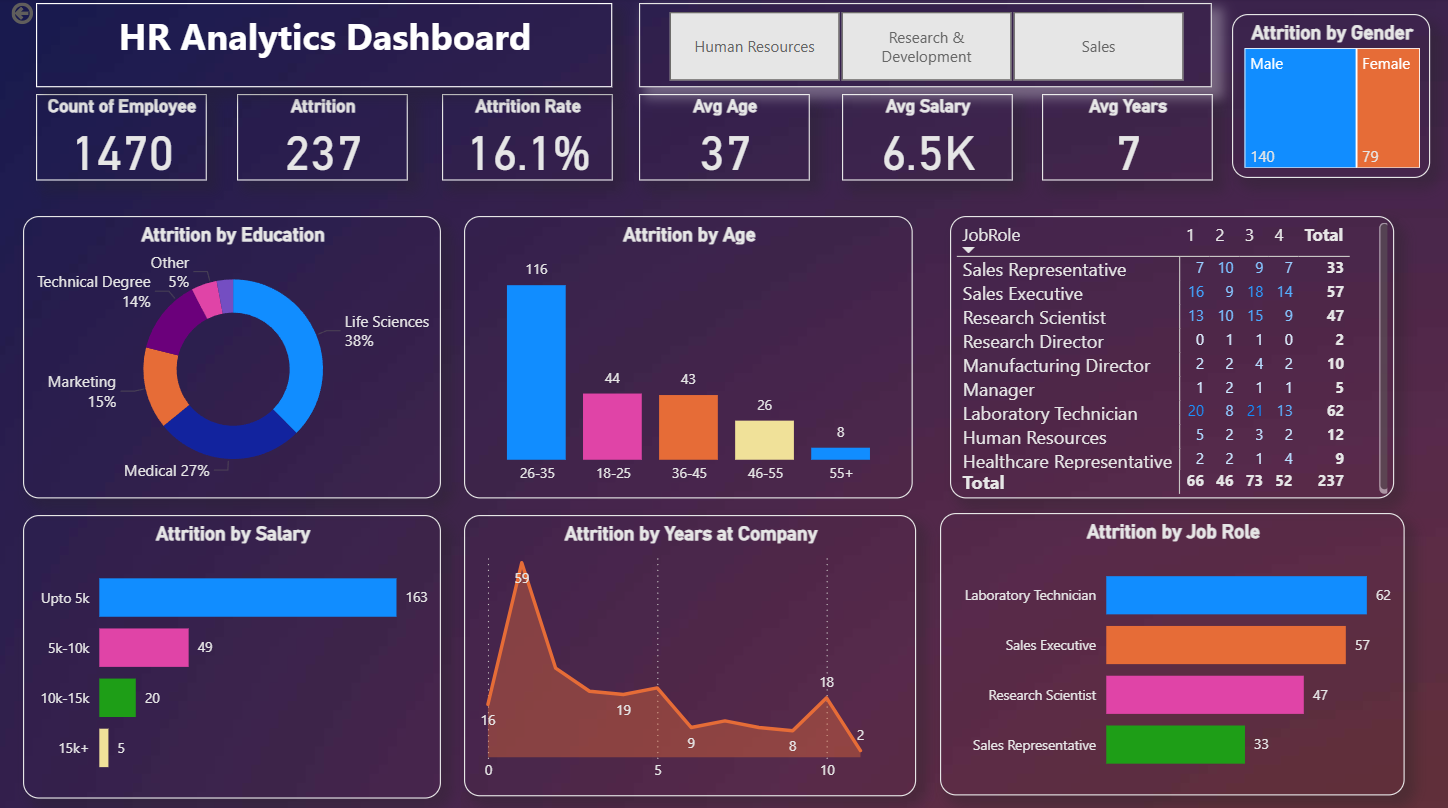

The page's visual inventory and layout, read from the dashboard file:
{"tool":"powerbi","page":{"name":"Page 1","canvas":[1280,720],"ordinal":0},"visuals":[{"type":"card","title":"Count of Employee","fields":{"Values":["CountNonNull(HR_Analytics.EmpID)"]},"box":[35.3,84,149.5,75.6],"z":0},{"type":"card","title":"Attrition","fields":{"Values":["Sum(HR_Analytics.AttritionCount)"]},"box":[211.7,84,149.5,75.6],"z":1000},{"type":"card","title":"Attrition Rate","fields":{"Values":["HR_Analytics.AttritionRate"]},"box":[391.4,84,149.5,75.6],"z":2000},{"type":"card","title":"Avg Age","fields":{"Values":["Avg(HR_Analytics.Age)"]},"box":[564.4,84,149.5,75.6],"z":3000},{"type":"actionButton","box":[10.1,0,100.8,26.9],"z":4000},{"type":"card","title":"Avg Salary","fields":{"Values":["Avg(HR_Analytics.MonthlyIncome)"]},"box":[742.5,84,149.5,75.6],"z":5000},{"type":"card","title":"Avg Years","fields":{"Values":["Avg(HR_Analytics.YearsAtCompany)"]},"box":[918.8,84,149.5,75.6],"z":6000},{"type":"donutChart","title":"Attrition by Education","fields":{"Y":["Sum(HR_Analytics.AttritionCount)"],"Category":["HR_Analytics.EducationField","HR_Analytics.YearsAtCompany"]},"box":[24.1,191.3,367.1,248],"z":7000},{"type":"columnChart","title":"Attrition by Age","fields":{"Category":["HR_Analytics.AgeGroup"],"Y":["Sum(HR_Analytics.AttritionCount)"]},"box":[411,191.3,394,248],"z":8000},{"type":"pivotTable","fields":{"Rows":["HR_Analytics.JobRole"],"Columns":["HR_Analytics.JobSatisfaction"],"Values":["Sum(HR_Analytics.AttritionCount)"]},"box":[837.6,191.3,389.8,248],"z":9000},{"type":"barChart","title":"Attrition by Salary","fields":{"Category":["HR_Analytics.SalarySlab"],"Y":["Sum(HR_Analytics.AttritionCount)"]},"box":[24.1,453.5,367.1,249.4],"z":10000},{"type":"barChart","title":"Attrition by Job Role","fields":{"Category":["HR_Analytics.JobRole"],"Y":["Sum(HR_Analytics.AttritionCount)"]},"box":[829.1,452.1,408.2,248],"z":11000},{"type":"areaChart","title":"Attrition by Years at Company","fields":{"Category":["HR_Analytics.YearsAtCompany"],"Y":["Sum(HR_Analytics.AttritionCount)"]},"box":[411,453.5,396.9,246.6],"z":12000},{"type":"treemap","title":"Attrition by Gender","fields":{"Group":["HR_Analytics.Gender"],"Values":["Sum(HR_Analytics.AttritionCount)"]},"box":[1085,14.1,174,144.3],"z":13000},{"type":"slicer","fields":{"Values":["HR_Analytics.Department"]},"box":[584.2,14.1,447,53.8],"z":14000},{"type":"textbox","box":[60.6,0,481.2,74.6],"z":15000}]}

Visuals, with their boxes in screenshot pixels (x1, y1, x2, y2), scaled from the page's 1280x720 canvas onto the 1448x808 screenshot:
"Count of Employee" card: [x1=40, y1=94, x2=209, y2=179]
"Attrition" card: [x1=239, y1=94, x2=409, y2=179]
"Attrition Rate" card: [x1=443, y1=94, x2=612, y2=179]
"Avg Age" card: [x1=638, y1=94, x2=808, y2=179]
actionButton: [x1=11, y1=0, x2=125, y2=30]
"Avg Salary" card: [x1=840, y1=94, x2=1009, y2=179]
"Avg Years" card: [x1=1039, y1=94, x2=1209, y2=179]
"Attrition by Education" donutChart: [x1=27, y1=215, x2=443, y2=493]
"Attrition by Age" columnChart: [x1=465, y1=215, x2=911, y2=493]
pivotTable - HR_Analytics.JobRole x HR_Analytics.JobSatisfaction: [x1=948, y1=215, x2=1388, y2=493]
"Attrition by Salary" barChart: [x1=27, y1=509, x2=443, y2=789]
"Attrition by Job Role" barChart: [x1=938, y1=507, x2=1400, y2=786]
"Attrition by Years at Company" areaChart: [x1=465, y1=509, x2=914, y2=786]
"Attrition by Gender" treemap: [x1=1227, y1=16, x2=1424, y2=178]
slicer - HR_Analytics.Department: [x1=661, y1=16, x2=1167, y2=76]
textbox: [x1=69, y1=0, x2=613, y2=84]
